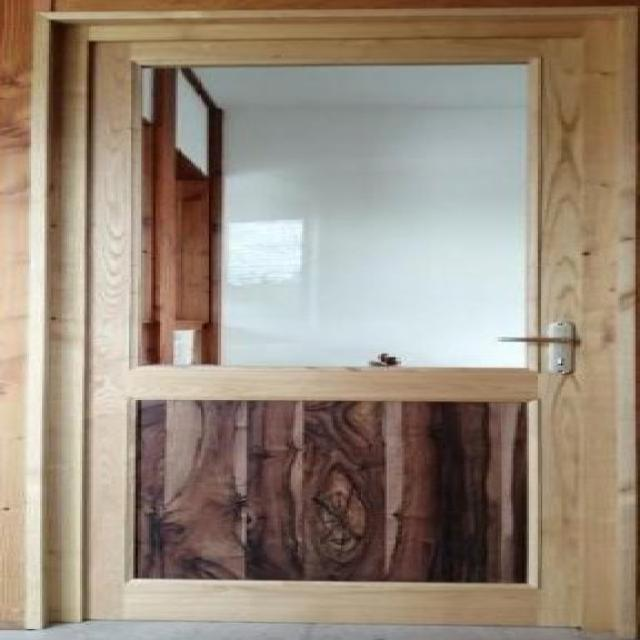door_handle: (486, 333, 589, 350)
